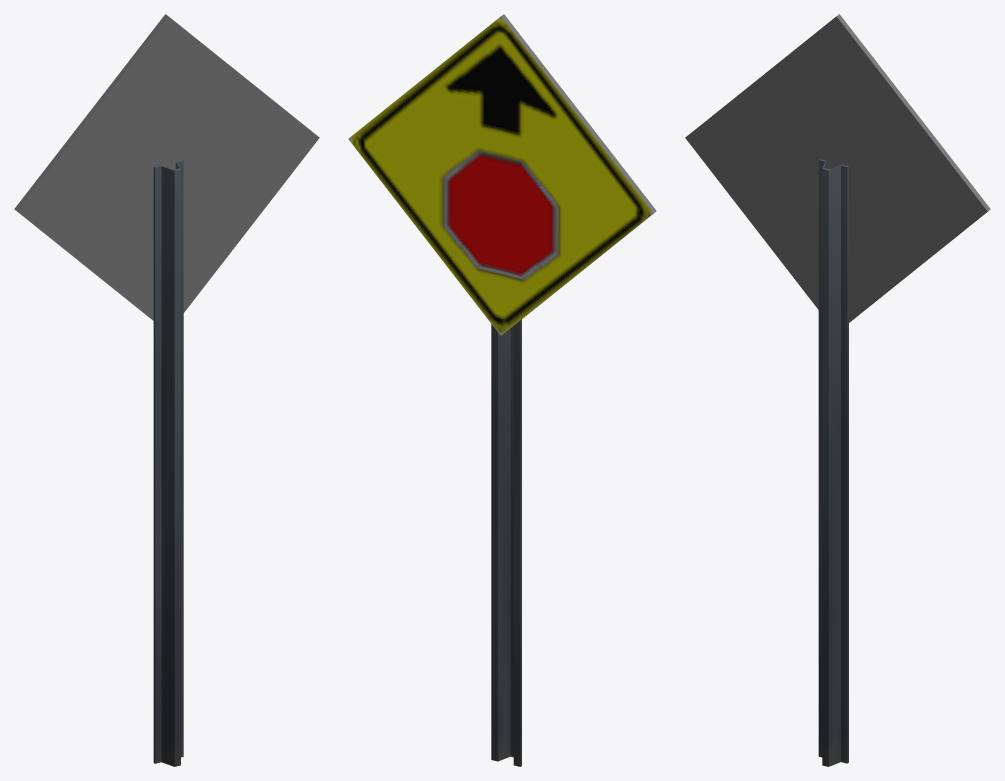
Rendered from warning_stopahead.obj.
The picture shows the model from 3 angles, left to right: view 1: azimuth 30°, elevation 25°; view 2: azimuth 150°, elevation 25°; view 3: azimuth 330°, elevation 25°; orthographic projection.
Visible parts, largest first — view 1: Mesh; view 2: Mesh; view 3: Mesh.
Part boxes in pixels (x1=…): Mesh: x1=14, y1=14, x2=319, y2=766; Mesh: x1=348, y1=14, x2=656, y2=766; Mesh: x1=685, y1=14, x2=990, y2=766.
Bounding box in the file's own units: 0.2382 × 0.5585 × 0.0181.
